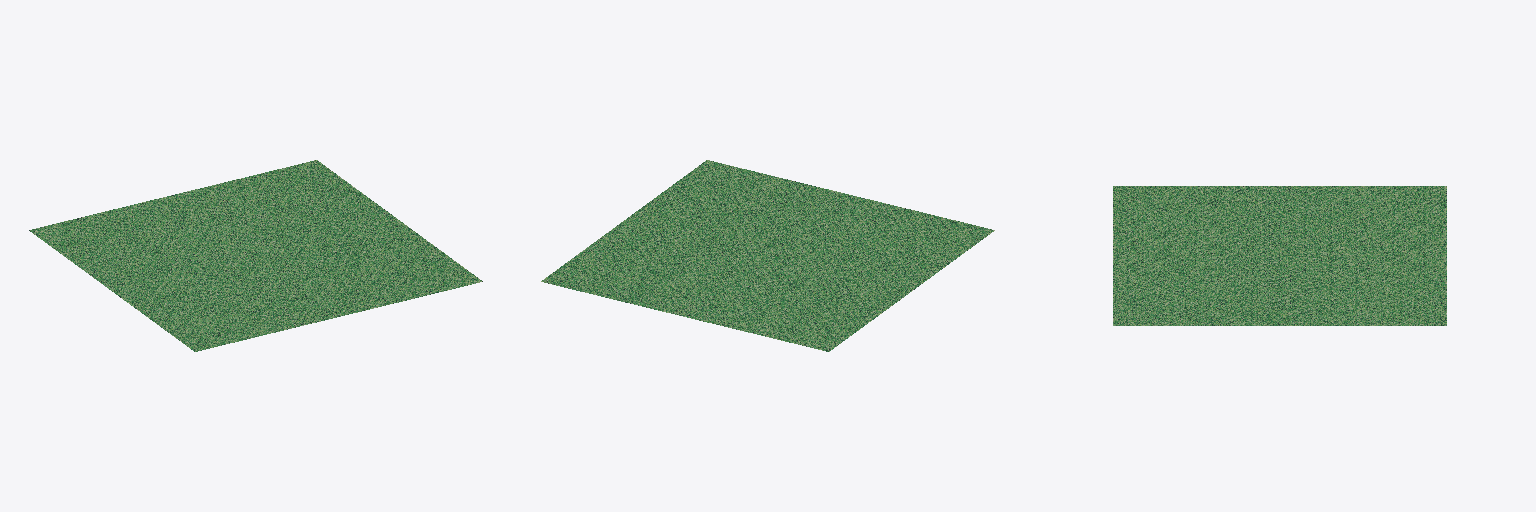
3 renders of one model, left to right at view 1: azimuth 30°, elevation 25°; view 2: azimuth 150°, elevation 25°; view 3: azimuth 270°, elevation 25°, orthographic.
Size of the model in its own units: 44.69 by 0 by 44.69.
1 materials, 1 textured.